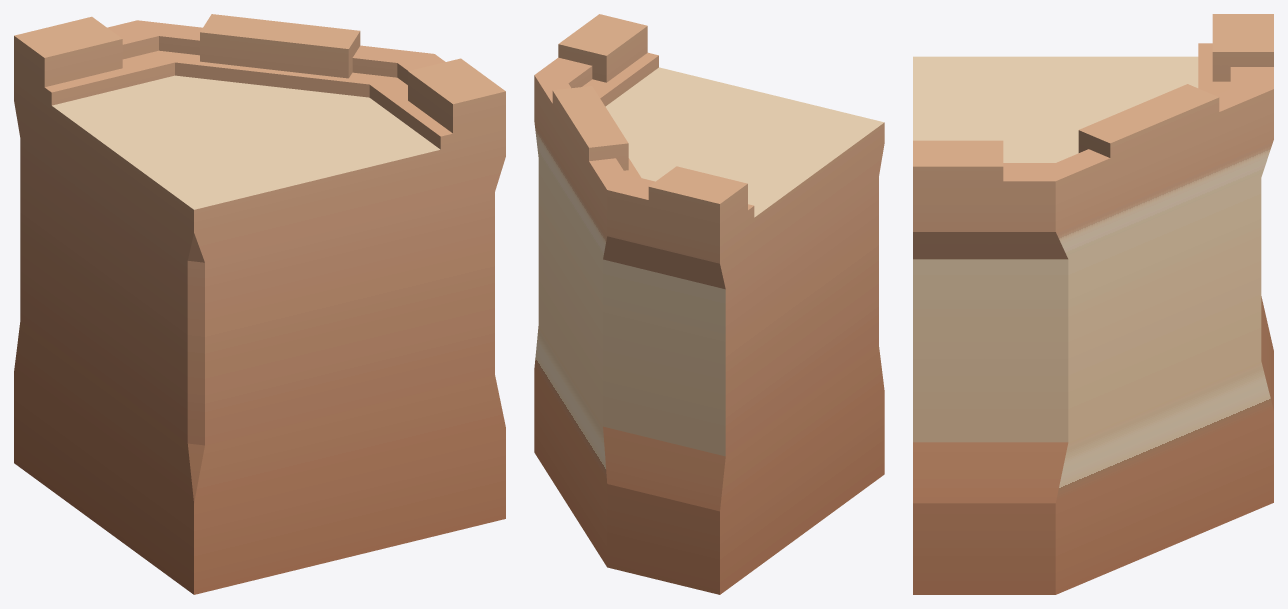
File: wall-corner-slant.glb
3 views of the same model, side by side, from view 1: azimuth 30°, elevation 25°; view 2: azimuth 150°, elevation 25°; view 3: azimuth 270°, elevation 25° (orthographic). The views are drawn at different scales.
Parts seen in each view (by area): view 1: wall-corner-slant; view 2: wall-corner-slant; view 3: wall-corner-slant.
Boxes of the visible parts, left/top/right/bottom form: wall-corner-slant: left=14, top=14, right=505, bottom=594; wall-corner-slant: left=534, top=14, right=884, bottom=594; wall-corner-slant: left=913, top=14, right=1273, bottom=594.
Size of the model in its own units: 1 by 1.31 by 1.
Materials: 1 (1 with a texture image).
